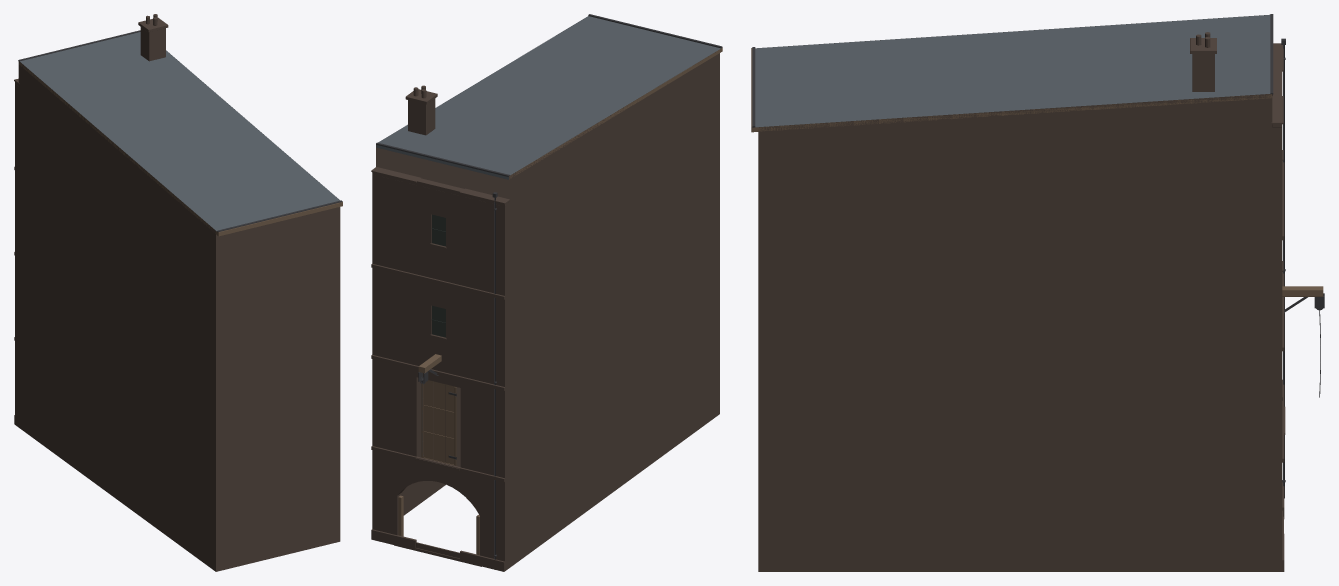
Rendered from terrace2-4.glb.
3 renders of one model, left to right at view 1: azimuth 30°, elevation 25°; view 2: azimuth 150°, elevation 25°; view 3: azimuth 270°, elevation 25°, orthographic. The views are drawn at different scales.
Parts seen in each view (by area): view 1: terrace2-4; view 2: terrace2-4; view 3: terrace2-4.
Boxes of the visible parts, left/top/right/bottom form: terrace2-4: left=14, top=14, right=342, bottom=571; terrace2-4: left=371, top=14, right=722, bottom=571; terrace2-4: left=751, top=14, right=1324, bottom=571.
Bounding box in the file's own units: 5.03 × 15.53 × 15.31.
